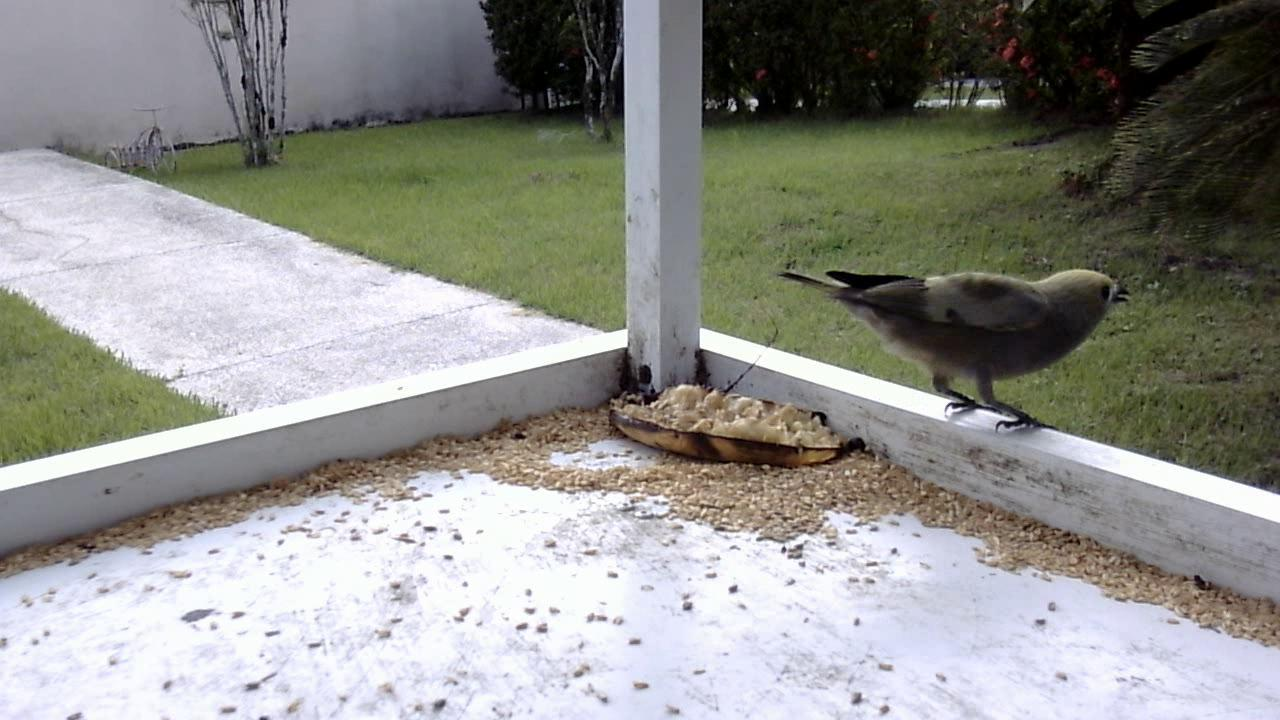sanhaco_do_coqueiro: (761, 242, 1130, 449)
